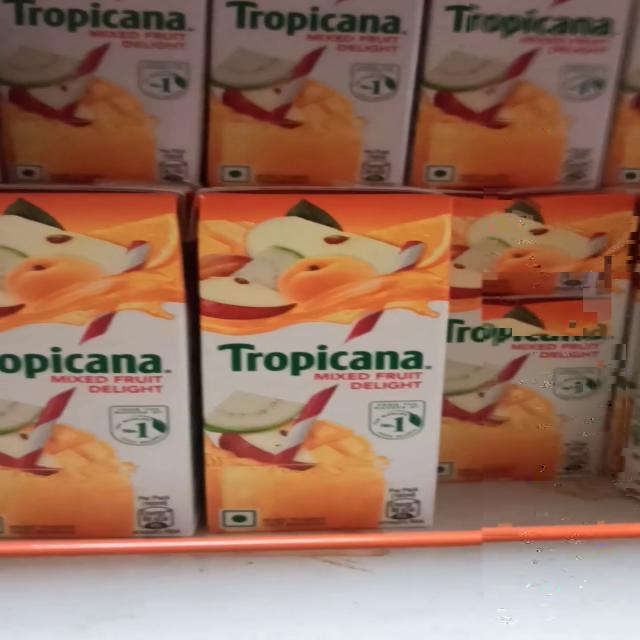Tropicana: (200, 186, 428, 526), (207, 0, 422, 188), (0, 0, 201, 194)
